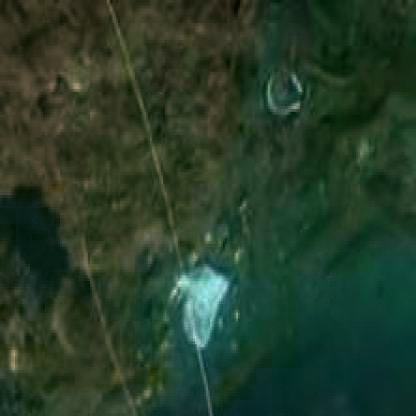misc: (160, 247, 262, 364)
